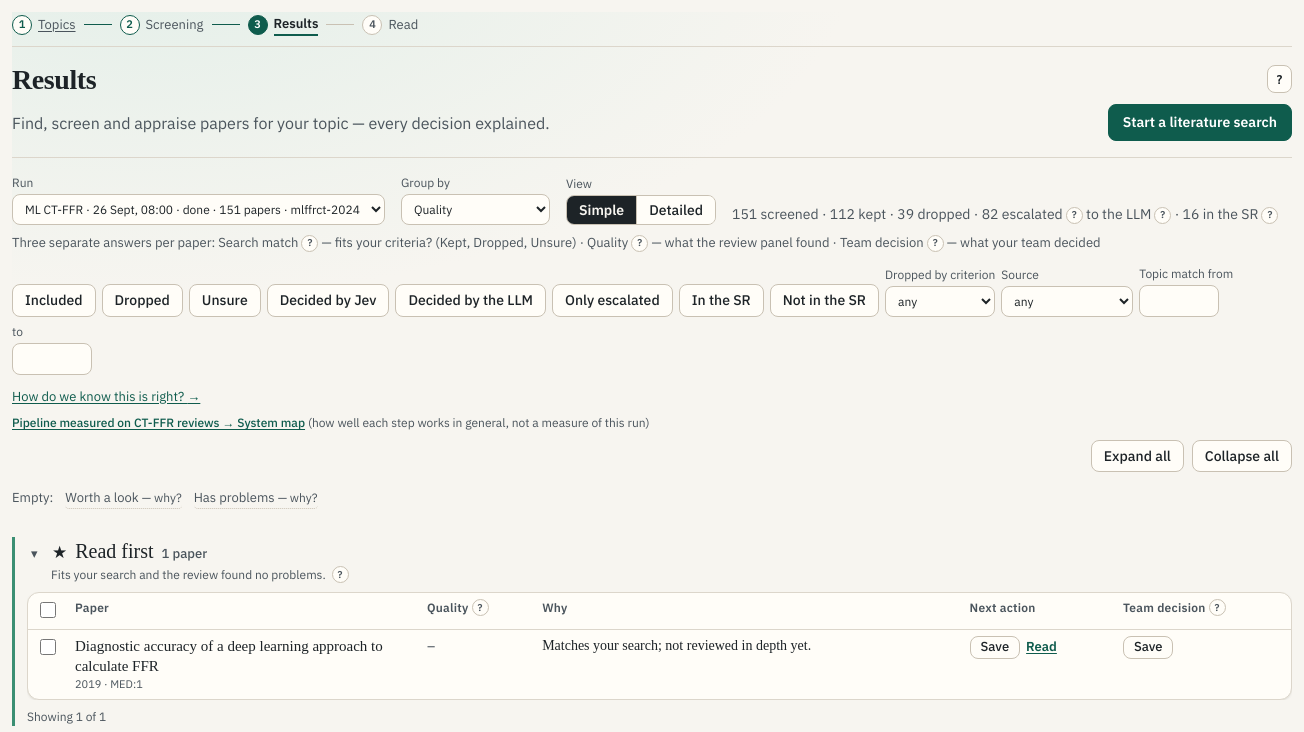
Test case: quality groups › shows each group with its count and rule; rows load per group, score first; Not relevant starts collapsed
This screenshot has width=1304, height=732.
Expected: the text "Fits your search and the review found no problems." is shown, [51,566,348,583]
Expected: the text "Kept by screening, editor verdict include and 0 red flags." is not shown
Click the button named "How “Read first” is decided" at (340, 575), box [332,566,348,583]
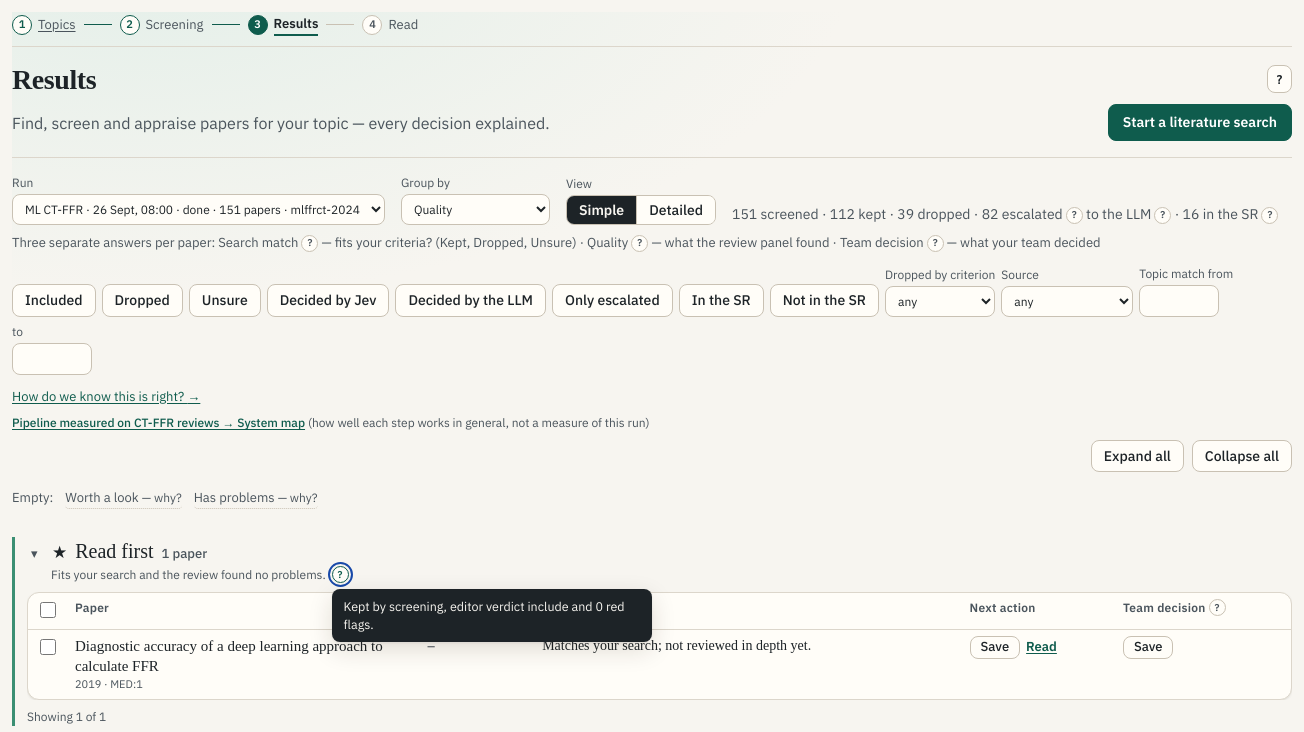
Expected: the tooltip reads "Kept by screening, editor verdict include and 0 red flags.", [344,598,625,632]
Press Escape
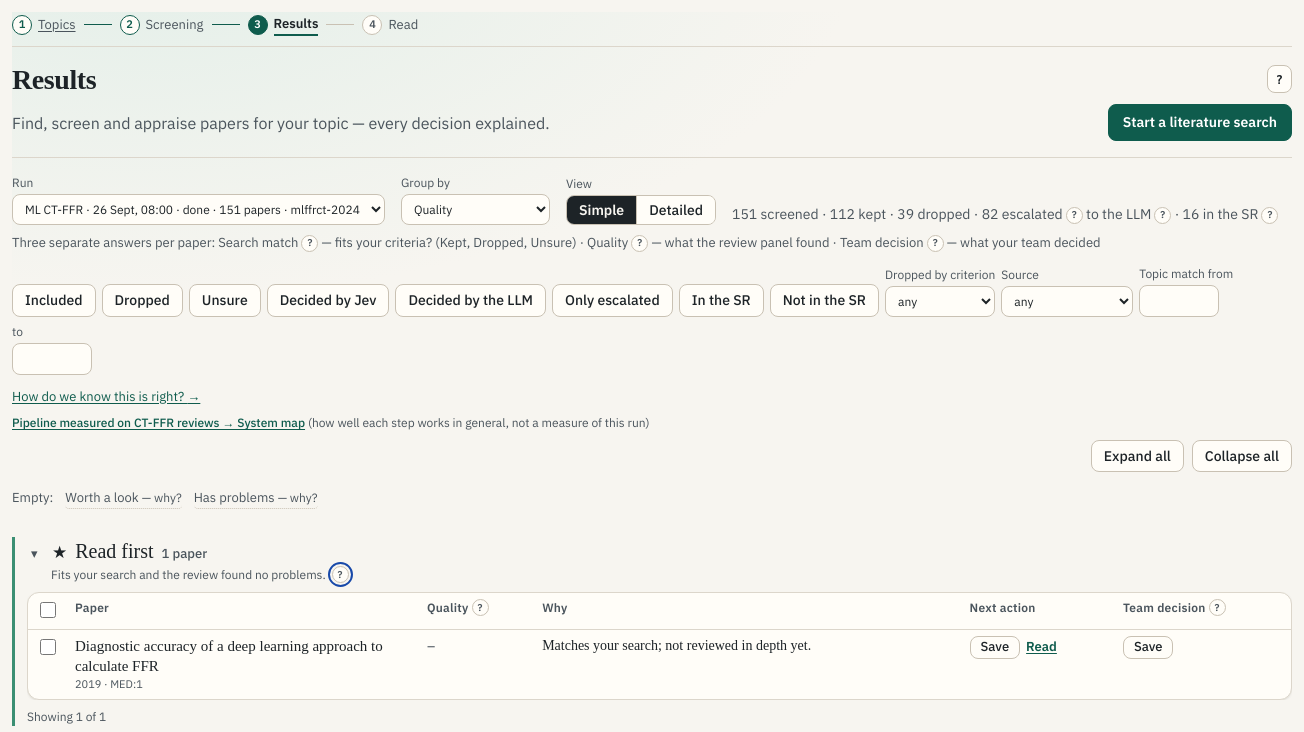
Expected: the button "Diagnostic accuracy of a deep learning approach to calculate FFR" is shown, [75,636,411,676]
Click the button "Worth a look — why?" at (124, 499), box [65,488,182,509]
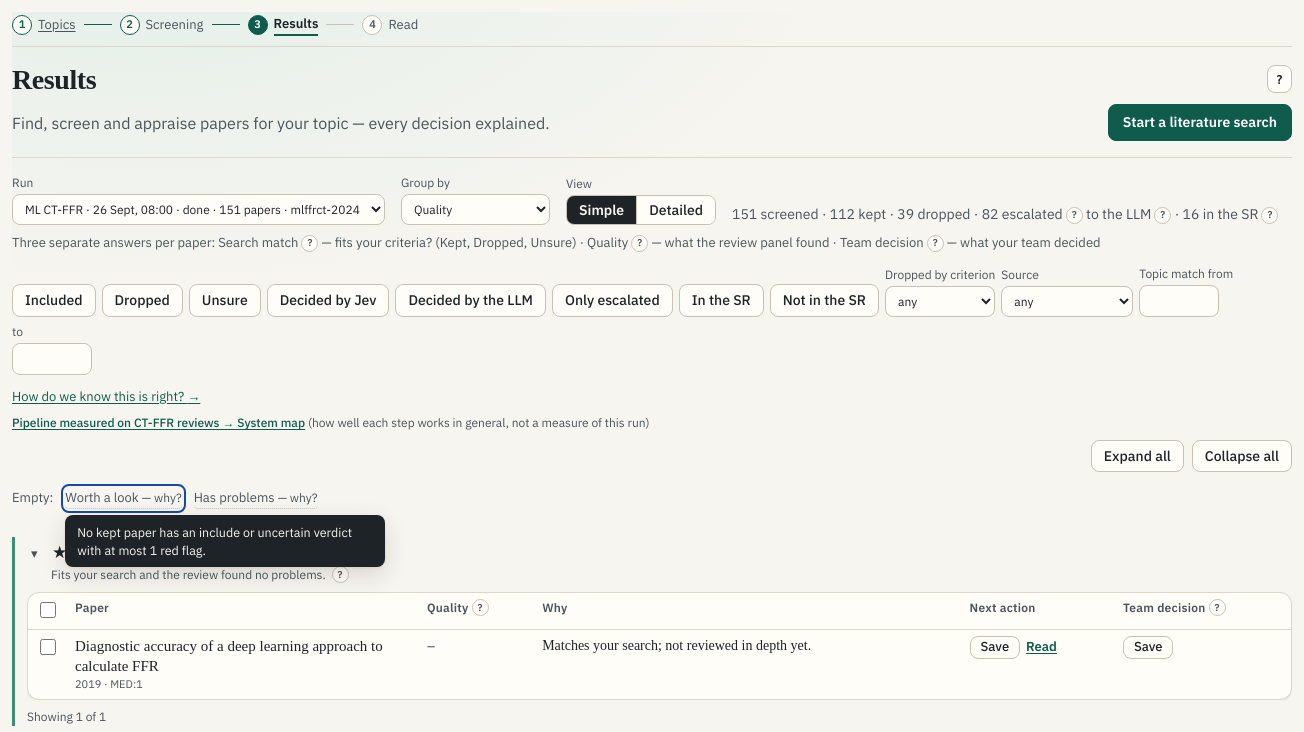
Expected: the tooltip reads "No kept paper has an include or uncertain verdict with at most 1 red flag.", [77,524,352,558]
